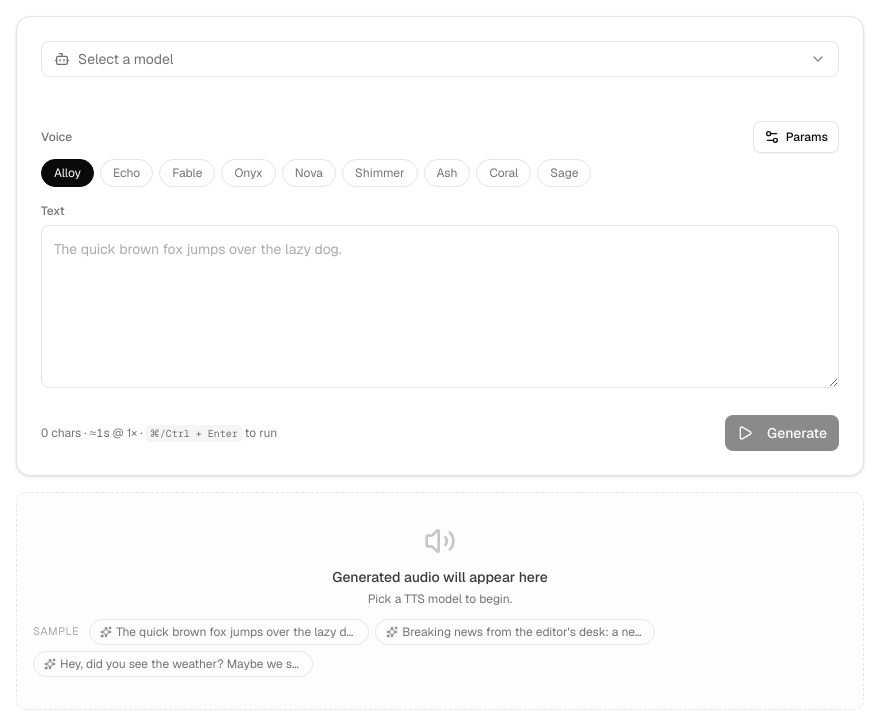
Test: SpeechPlayground — empty state › clicking a sample chip fills the text area
What coordinates should you click on to do the following:
click the button "Hey, did you see the weather? Maybe we should reschedule to next Tuesday instead."
I would click on:
 (173, 664)
Its box is [33,650,313,676].
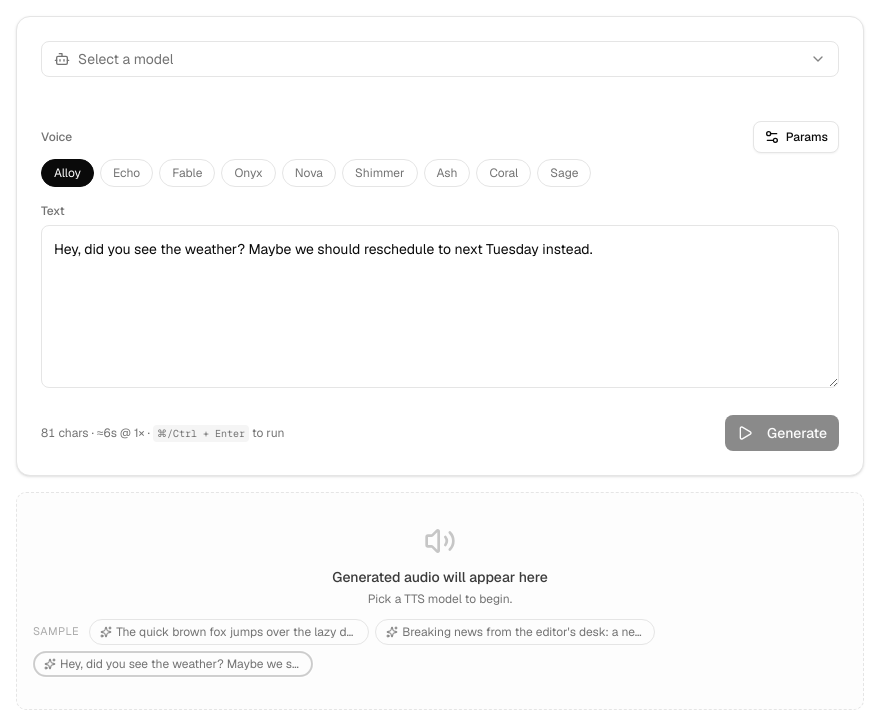
Result: the text box showing "Hey, did you see the weather? Maybe we should reschedule to next Tuesday instead." is shown at [41,225,839,388]
